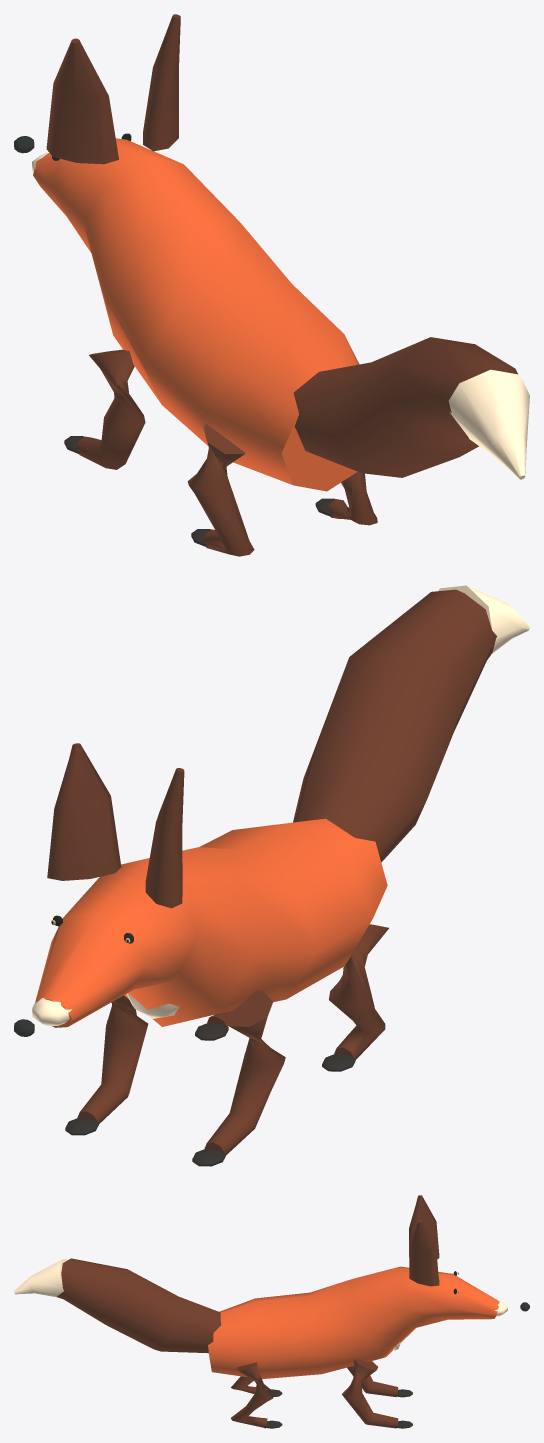
Rendered from fox_mobile.glb.
The picture shows the model from 3 angles, top to bottom: view 1: azimuth 30°, elevation 25°; view 2: azimuth 150°, elevation 25°; view 3: azimuth 270°, elevation 25°; orthographic projection. The views are drawn at different scales.
Parts seen in each view (by area): view 1: FoxOrganicBody, Tail, Ear, TailTip, Leg_LH, Leg_LF, Ear2, Leg_RH; view 2: FoxOrganicBody, Tail, Ear2, Leg_LF, Leg_RF, Leg_LH, Ear, TailTip, Muzzle; view 3: FoxOrganicBody, Tail, Ear2, Leg_RF, Leg_RH, TailTip, Ear, Leg_LF, Leg_LH.
Boxes of the visible parts, box(x1,y1,x2,y2) form: FoxOrganicBody: box(33, 138, 359, 491); Tail: box(293, 337, 517, 477); Ear: box(46, 38, 118, 164); TailTip: box(448, 369, 529, 479); Leg_LH: box(187, 424, 254, 556); Leg_LF: box(76, 349, 145, 469); Ear2: box(143, 14, 180, 151); Leg_RH: box(327, 472, 377, 525); FoxOrganicBody: box(35, 818, 387, 1027); Tail: box(293, 589, 497, 862); Ear2: box(47, 743, 121, 880); Leg_LF: box(204, 990, 285, 1155); Leg_RF: box(77, 995, 148, 1123); Leg_LH: box(329, 924, 388, 1059); Ear: box(145, 768, 184, 908); TailTip: box(438, 585, 529, 653); Muzzle: box(32, 998, 71, 1025); FoxOrganicBody: box(208, 1266, 499, 1379); Tail: box(57, 1258, 221, 1353); Ear2: box(409, 1220, 439, 1286); Leg_RF: box(342, 1358, 398, 1428); Leg_RH: box(231, 1362, 275, 1428); TailTip: box(14, 1258, 67, 1297); Ear: box(409, 1195, 439, 1258); Leg_LF: box(347, 1366, 398, 1397); Leg_LH: box(231, 1376, 267, 1393).
Bounding box in the file's own units: 1.06 × 2.31 × 5.28.
